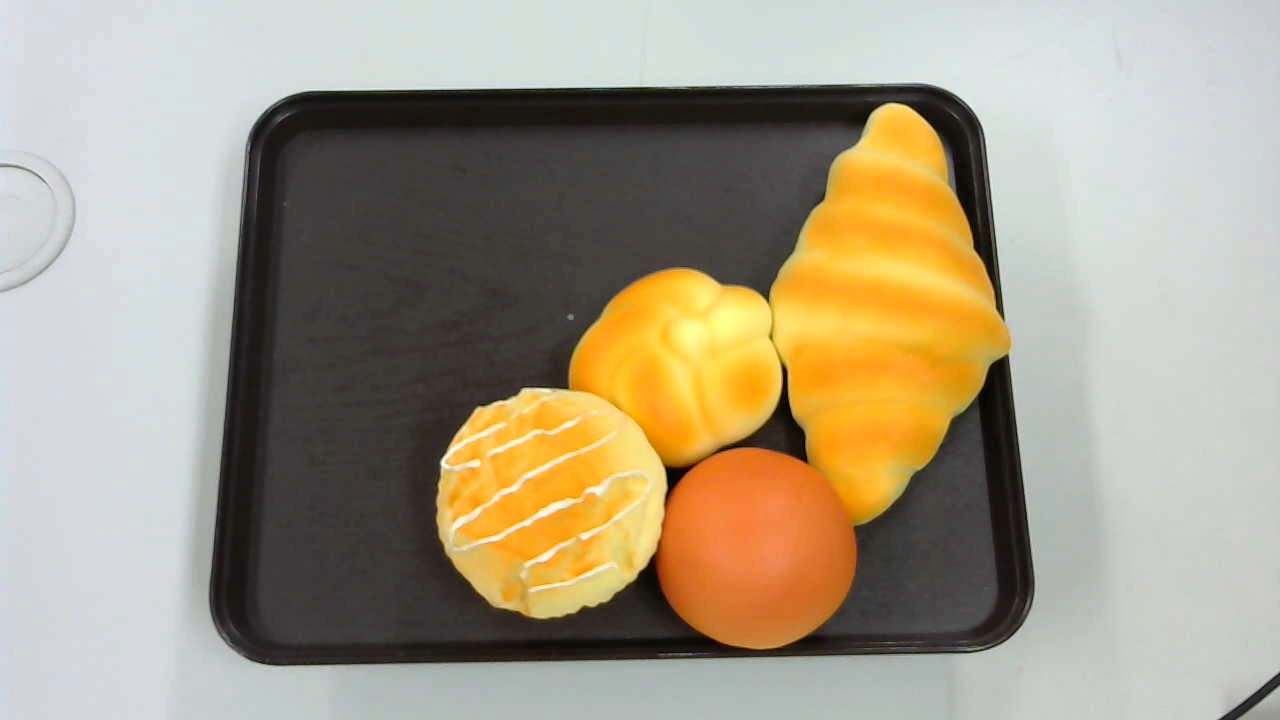bun: (656, 447, 856, 649)
croissant: (768, 101, 1011, 527)
cupcake: (436, 387, 667, 617)
twist bread: (569, 267, 782, 466)
